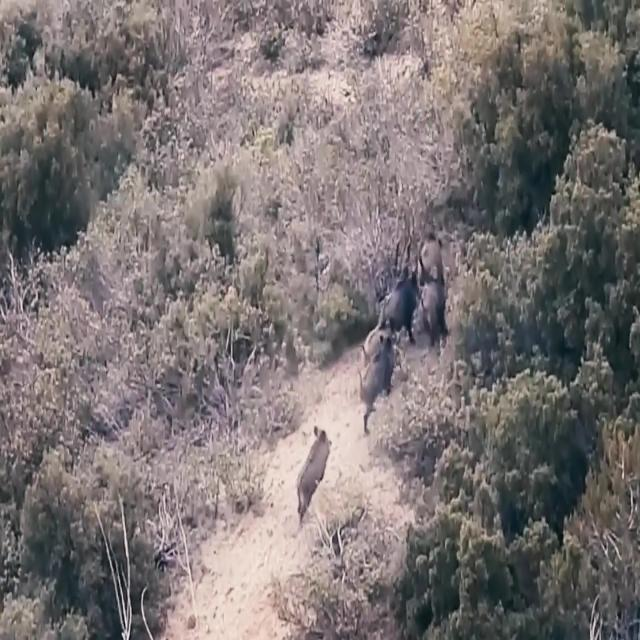pig: (288, 398, 326, 516), (358, 313, 389, 425), (380, 247, 410, 336), (416, 233, 441, 329), (422, 222, 443, 263)
